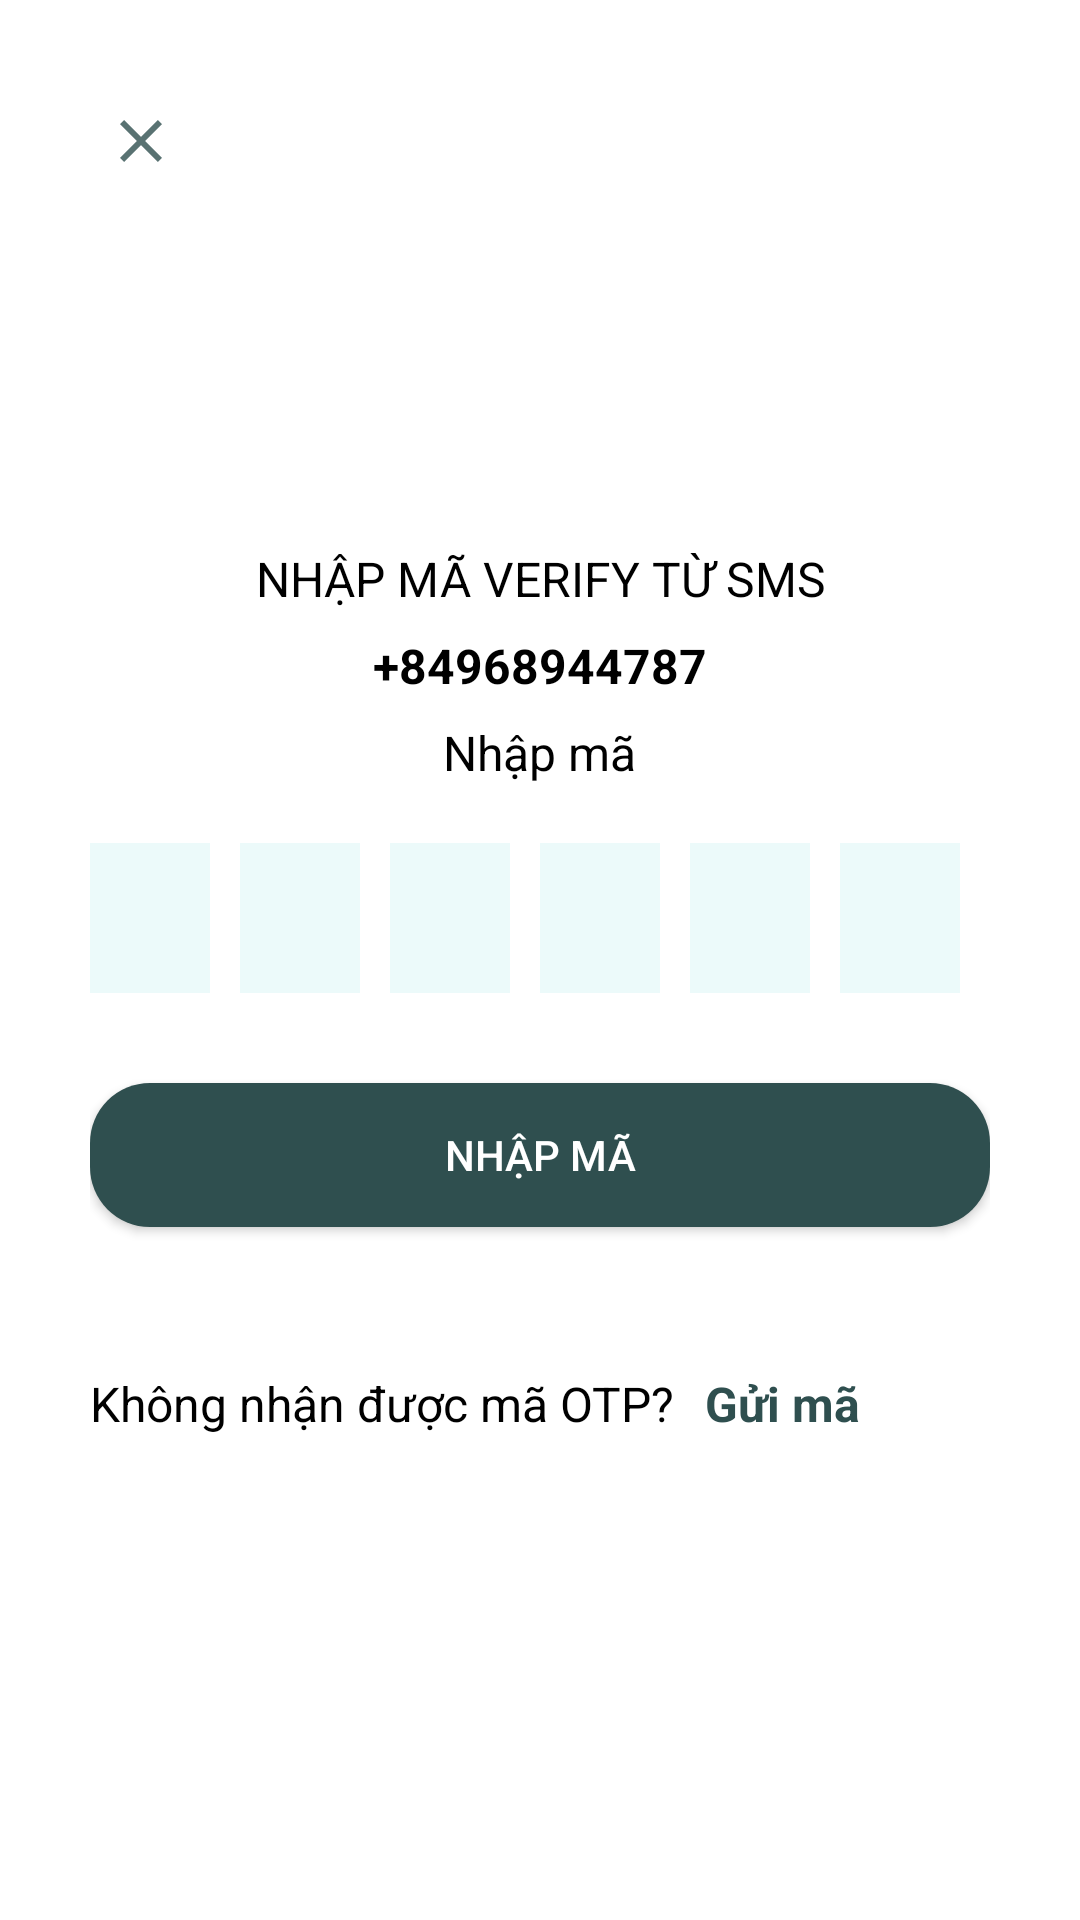

Icons on this 1080x1920 Android screen, each with the point to tap as (x=x, y=y):
close: (x=141, y=141)
